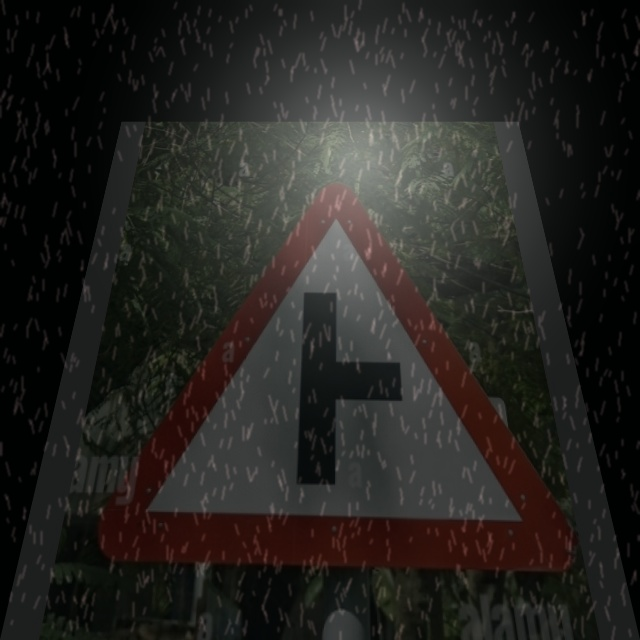Side_Road_Right: (115, 174, 564, 564)
